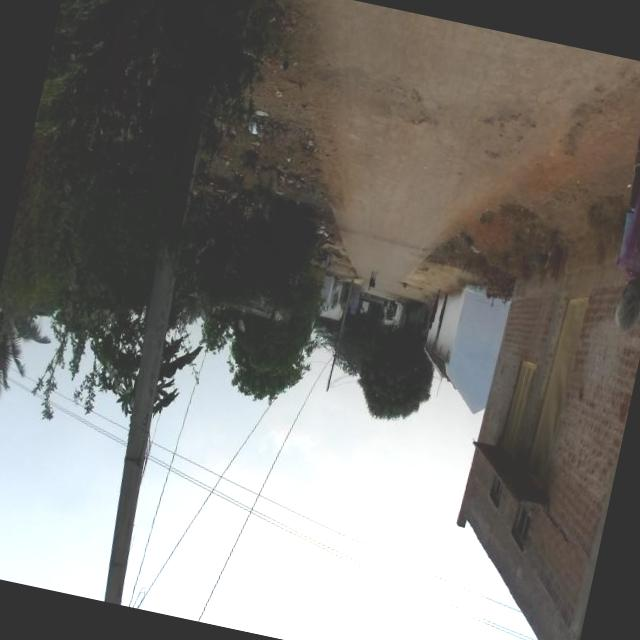pothole: (306, 18, 452, 184), (430, 23, 568, 196), (551, 48, 640, 190)
